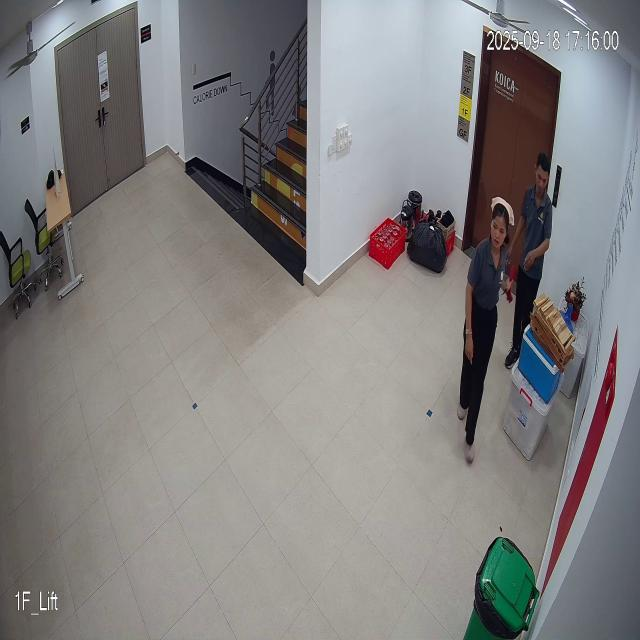face: (486, 186, 515, 249)
